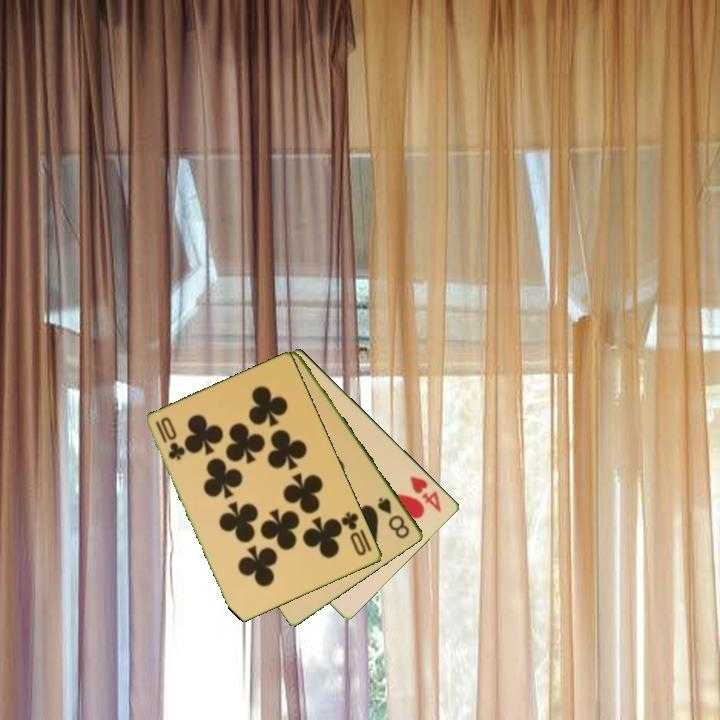10c: (152, 417, 188, 463), (338, 508, 370, 559)
4h: (406, 472, 445, 515)
8s: (374, 494, 413, 542)
